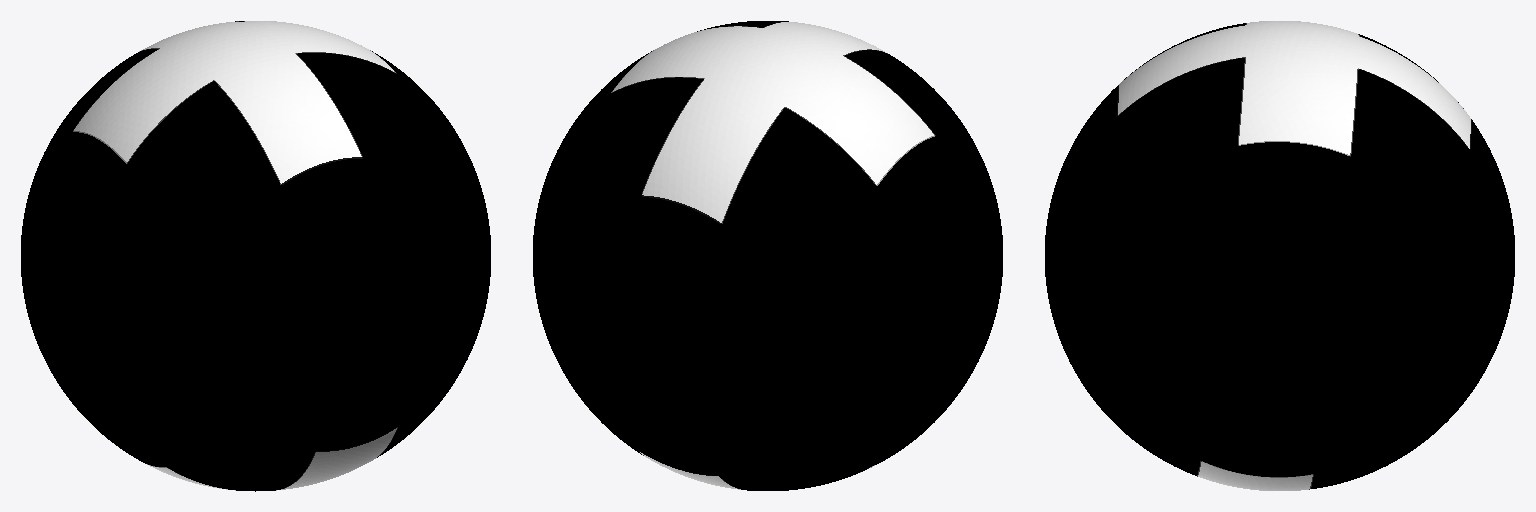
3 renders of one model, left to right at view 1: azimuth 30°, elevation 25°; view 2: azimuth 150°, elevation 25°; view 3: azimuth 270°, elevation 25°, orthographic.
Visible parts, largest first — view 1: Object.1; view 2: Object.1; view 3: Object.1.
Boxes of the visible parts, x1,y1,x2,y2 form: Object.1: [21, 21, 490, 491]; Object.1: [533, 21, 1002, 490]; Object.1: [1045, 21, 1514, 490].
Size of the model in its own units: 10 by 10 by 10.
2 materials, 1 textured.